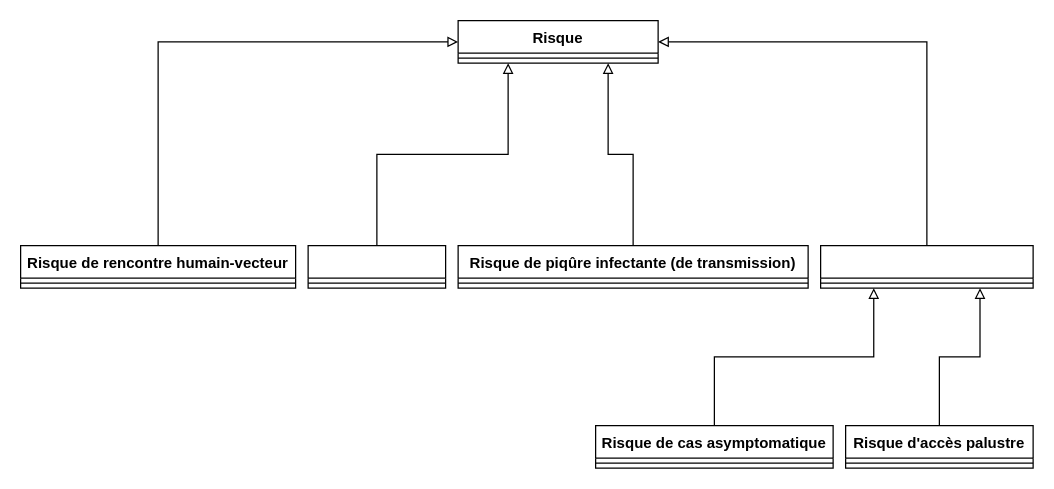
This 1054x489 diagram has some shape labels left out. The centre of each missing label's shape, as x and y in pixels:
"Risque de cas de paludisme" goes at (926,266).
"Risque de piqûre" goes at (376,266).
